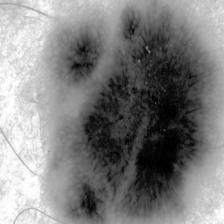Benign Marking or Mole: (49, 0, 223, 224)
